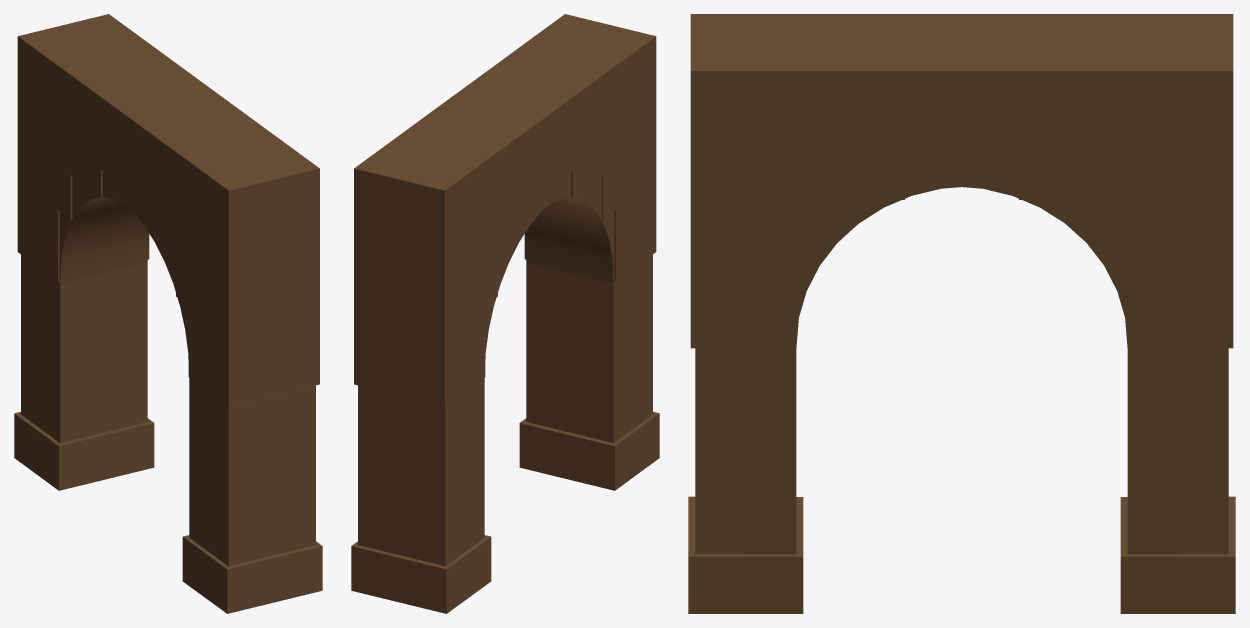
Rendered from SM_gate_arch_01.fbx.
The picture shows the model from 3 angles, left to right: view 1: azimuth 30°, elevation 25°; view 2: azimuth 150°, elevation 25°; view 3: azimuth 270°, elevation 25°; orthographic projection. The views are drawn at different scales.
Visible parts, largest first — view 1: gate_arch_01; view 2: gate_arch_01; view 3: gate_arch_01.
Boxes of the visible parts, x1,y1,x2,y2 form: gate_arch_01: (14, 14, 322, 613); gate_arch_01: (351, 14, 659, 613); gate_arch_01: (688, 14, 1235, 613).
Size of the model in its own units: 193 by 816 by 747.
